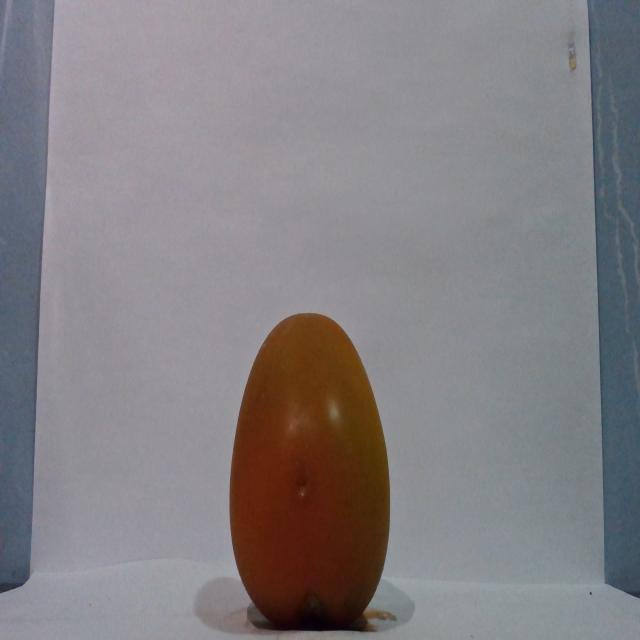Red: (227, 310, 392, 629)
